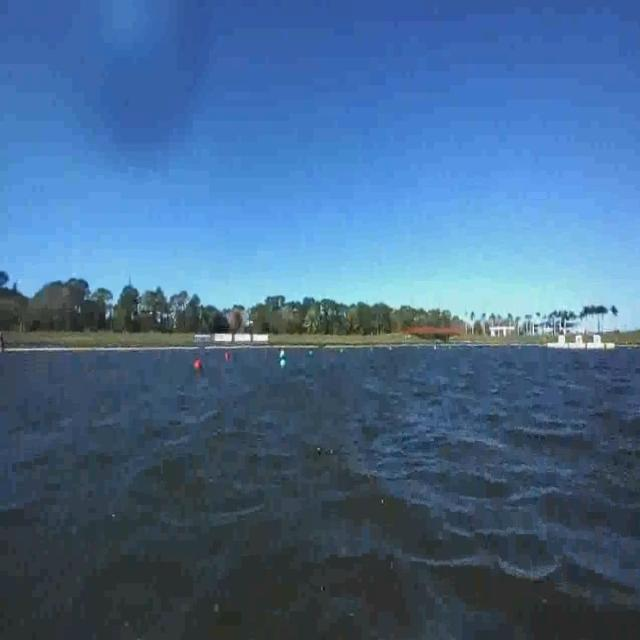green-buoy: (279, 355, 287, 371)
red-buoy: (193, 358, 200, 369), (226, 351, 230, 361)
